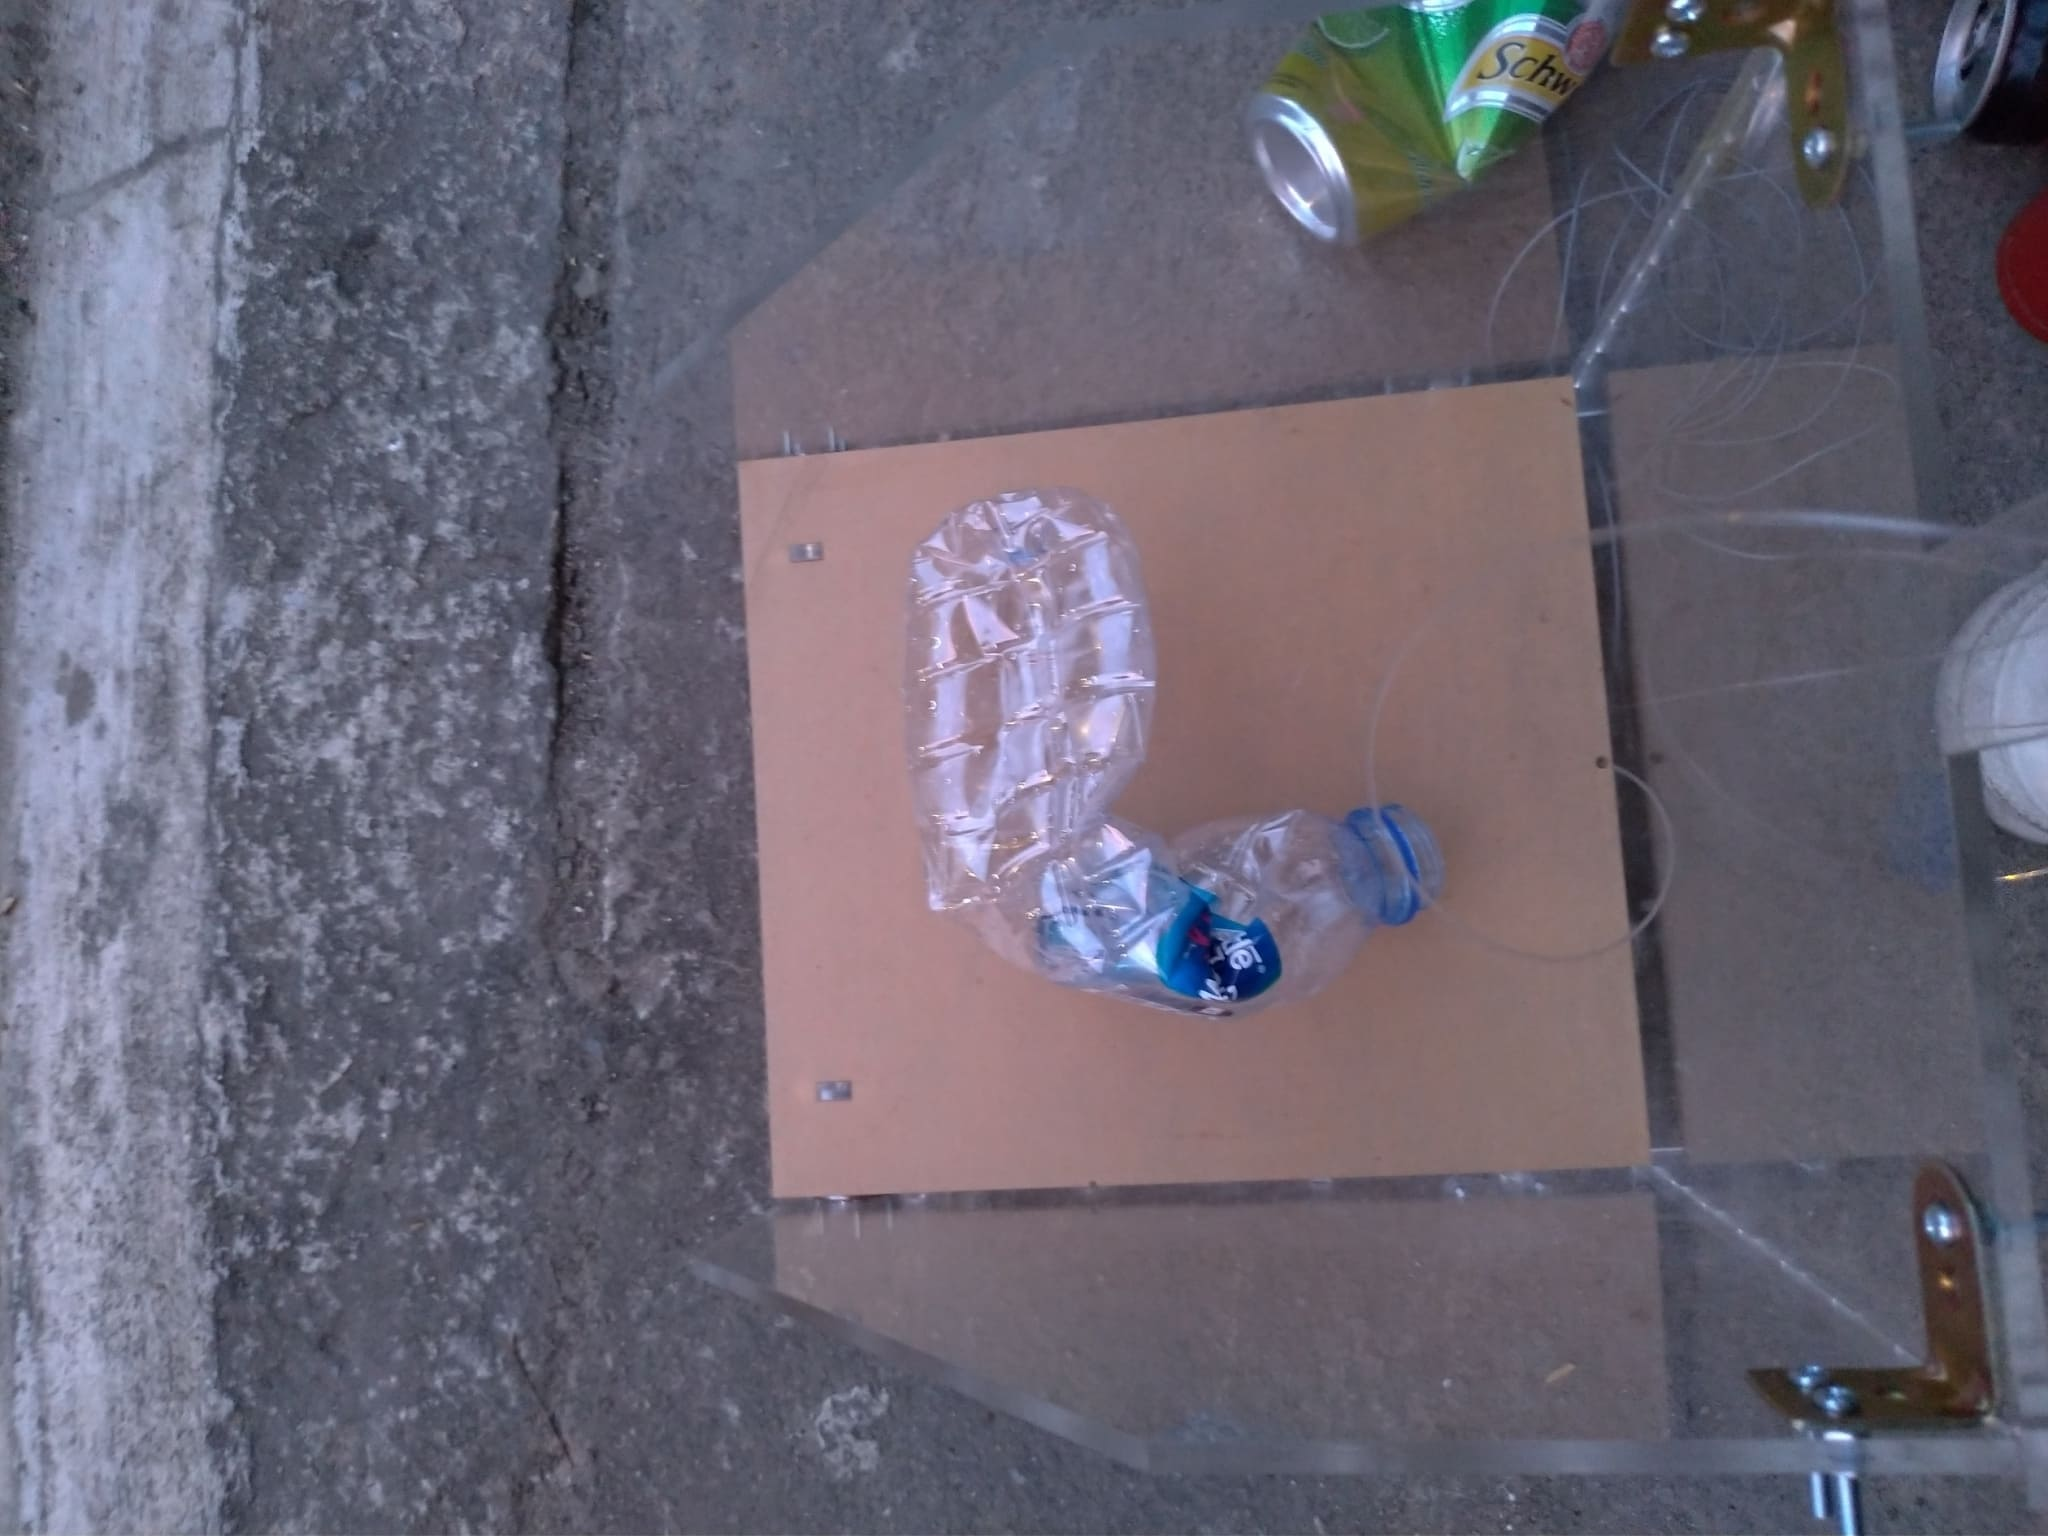AlCan: (1247, 2, 1635, 250)
PlasticBottle: (901, 486, 1437, 1013)
